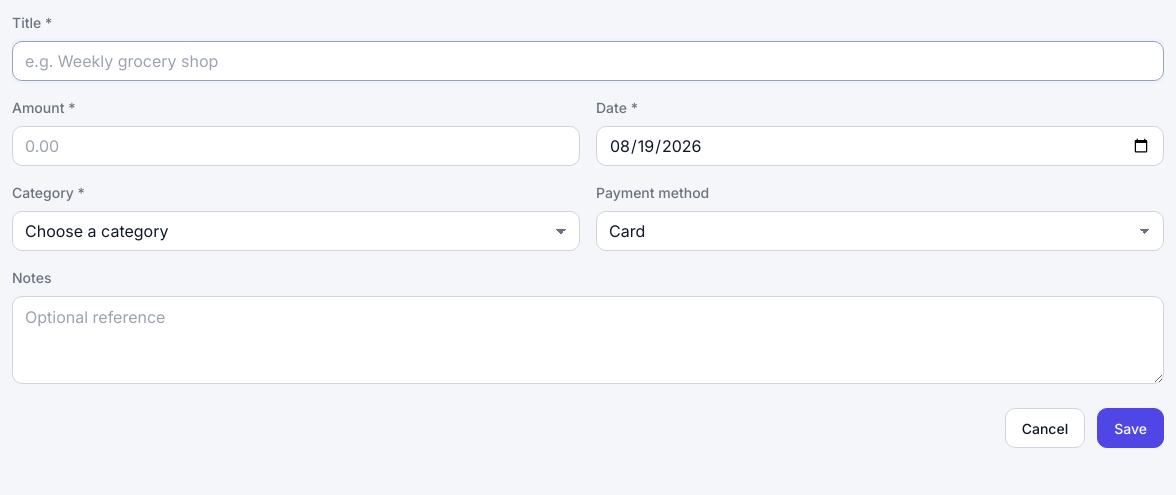
Test: TransactionForm › rejects an amount that is not a number
Type "Coffee" into the field labelled "Title *". click: coordinates (588, 61)
box: [12,41,1164,81]
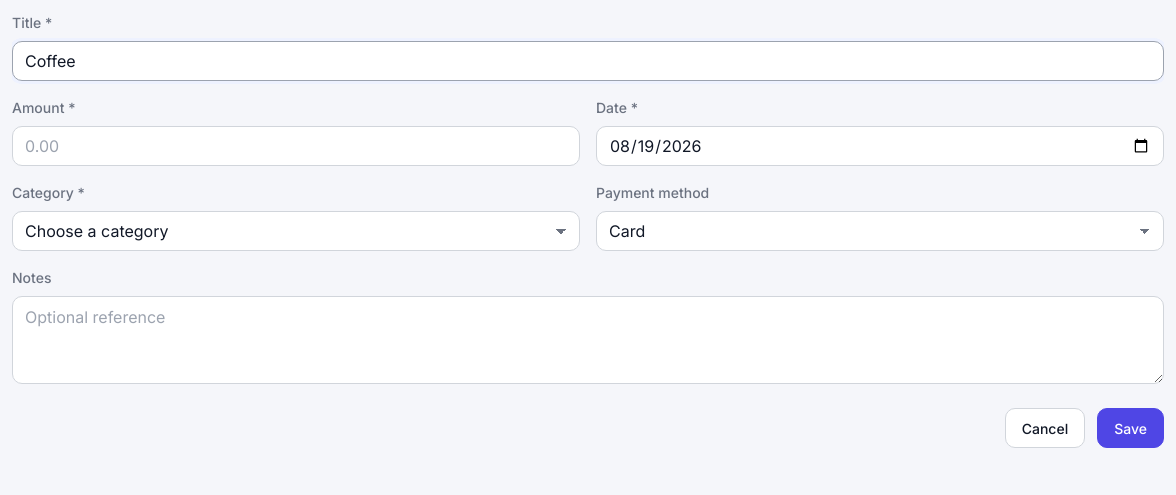
Type "abc" into the field labelled "Amount *". click: coordinates (296, 146)
box: [12,126,580,166]
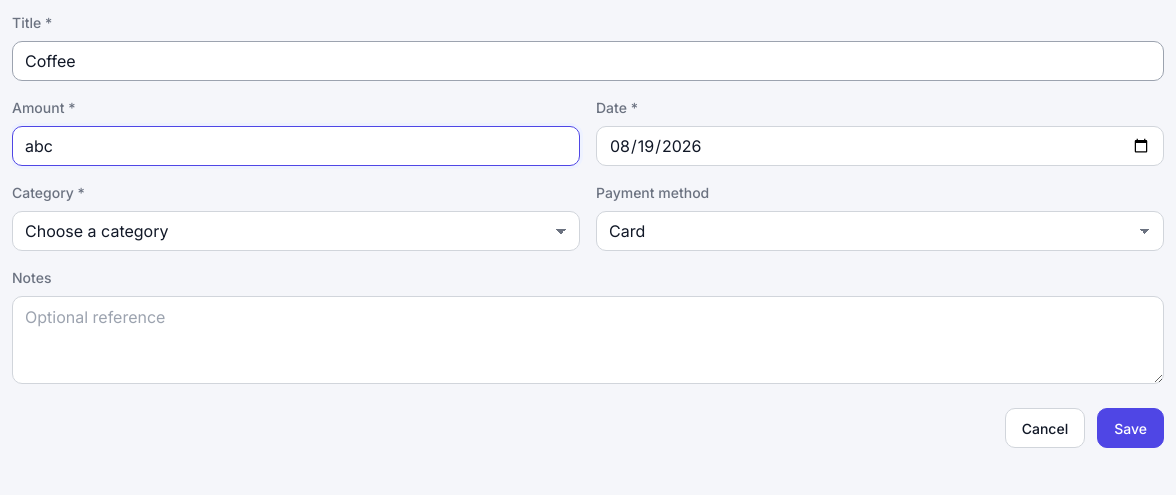
Select "Groceries" in the dropdown labelled "Category *". click: coordinates (296, 231)
box: [12,211,580,251]
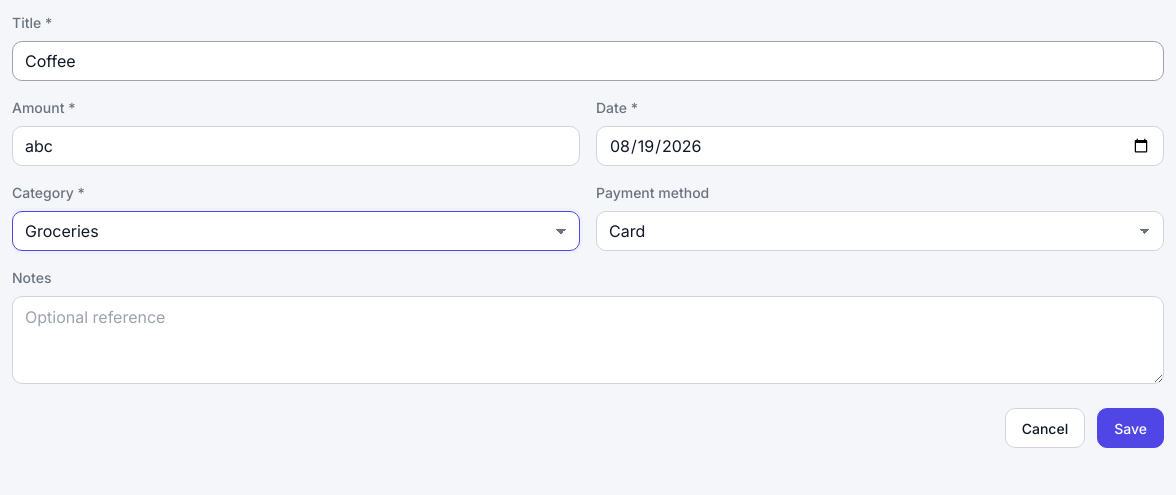
Click the button "Save". click: coordinates (1131, 428)
box: [1097,408,1164,448]
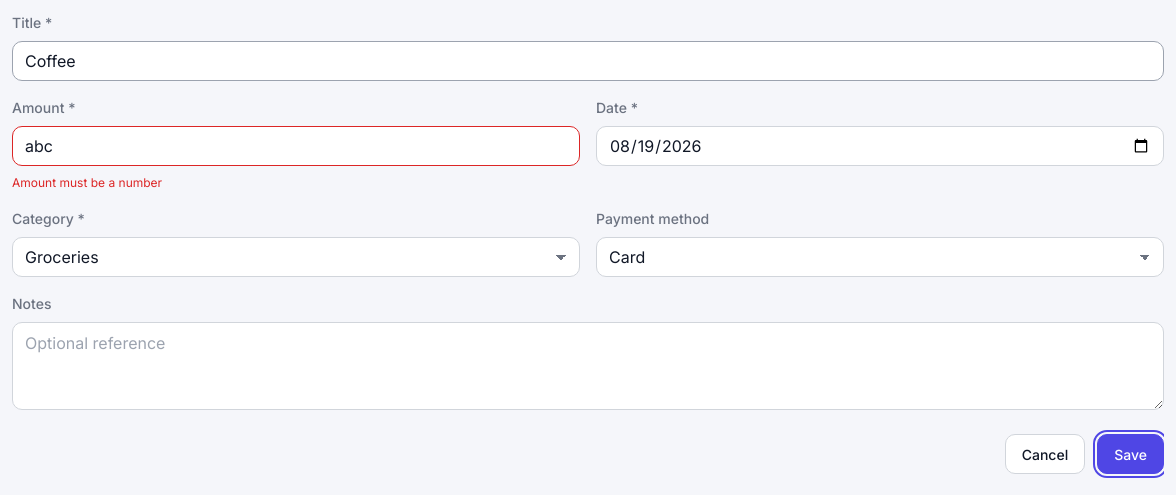
Expected: the text "Amount must be a number" is shown, [12,175,162,190]
